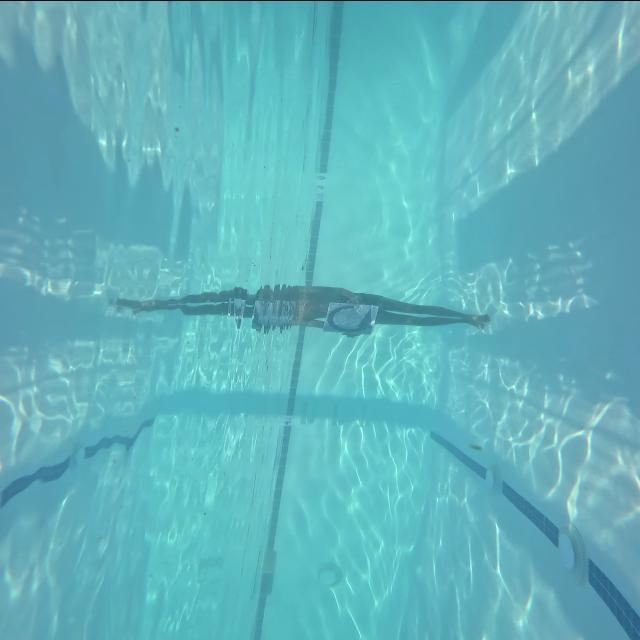blue_side: (325, 302, 378, 332)
